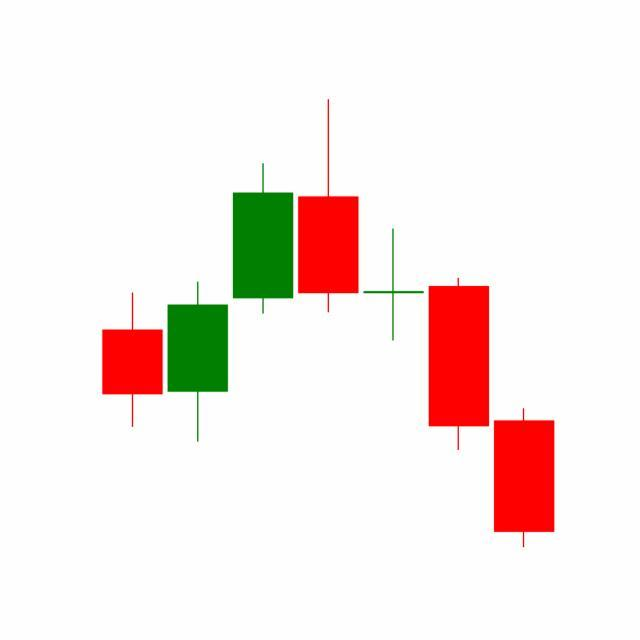Three Outside Up-Down: (360, 225, 556, 549)
